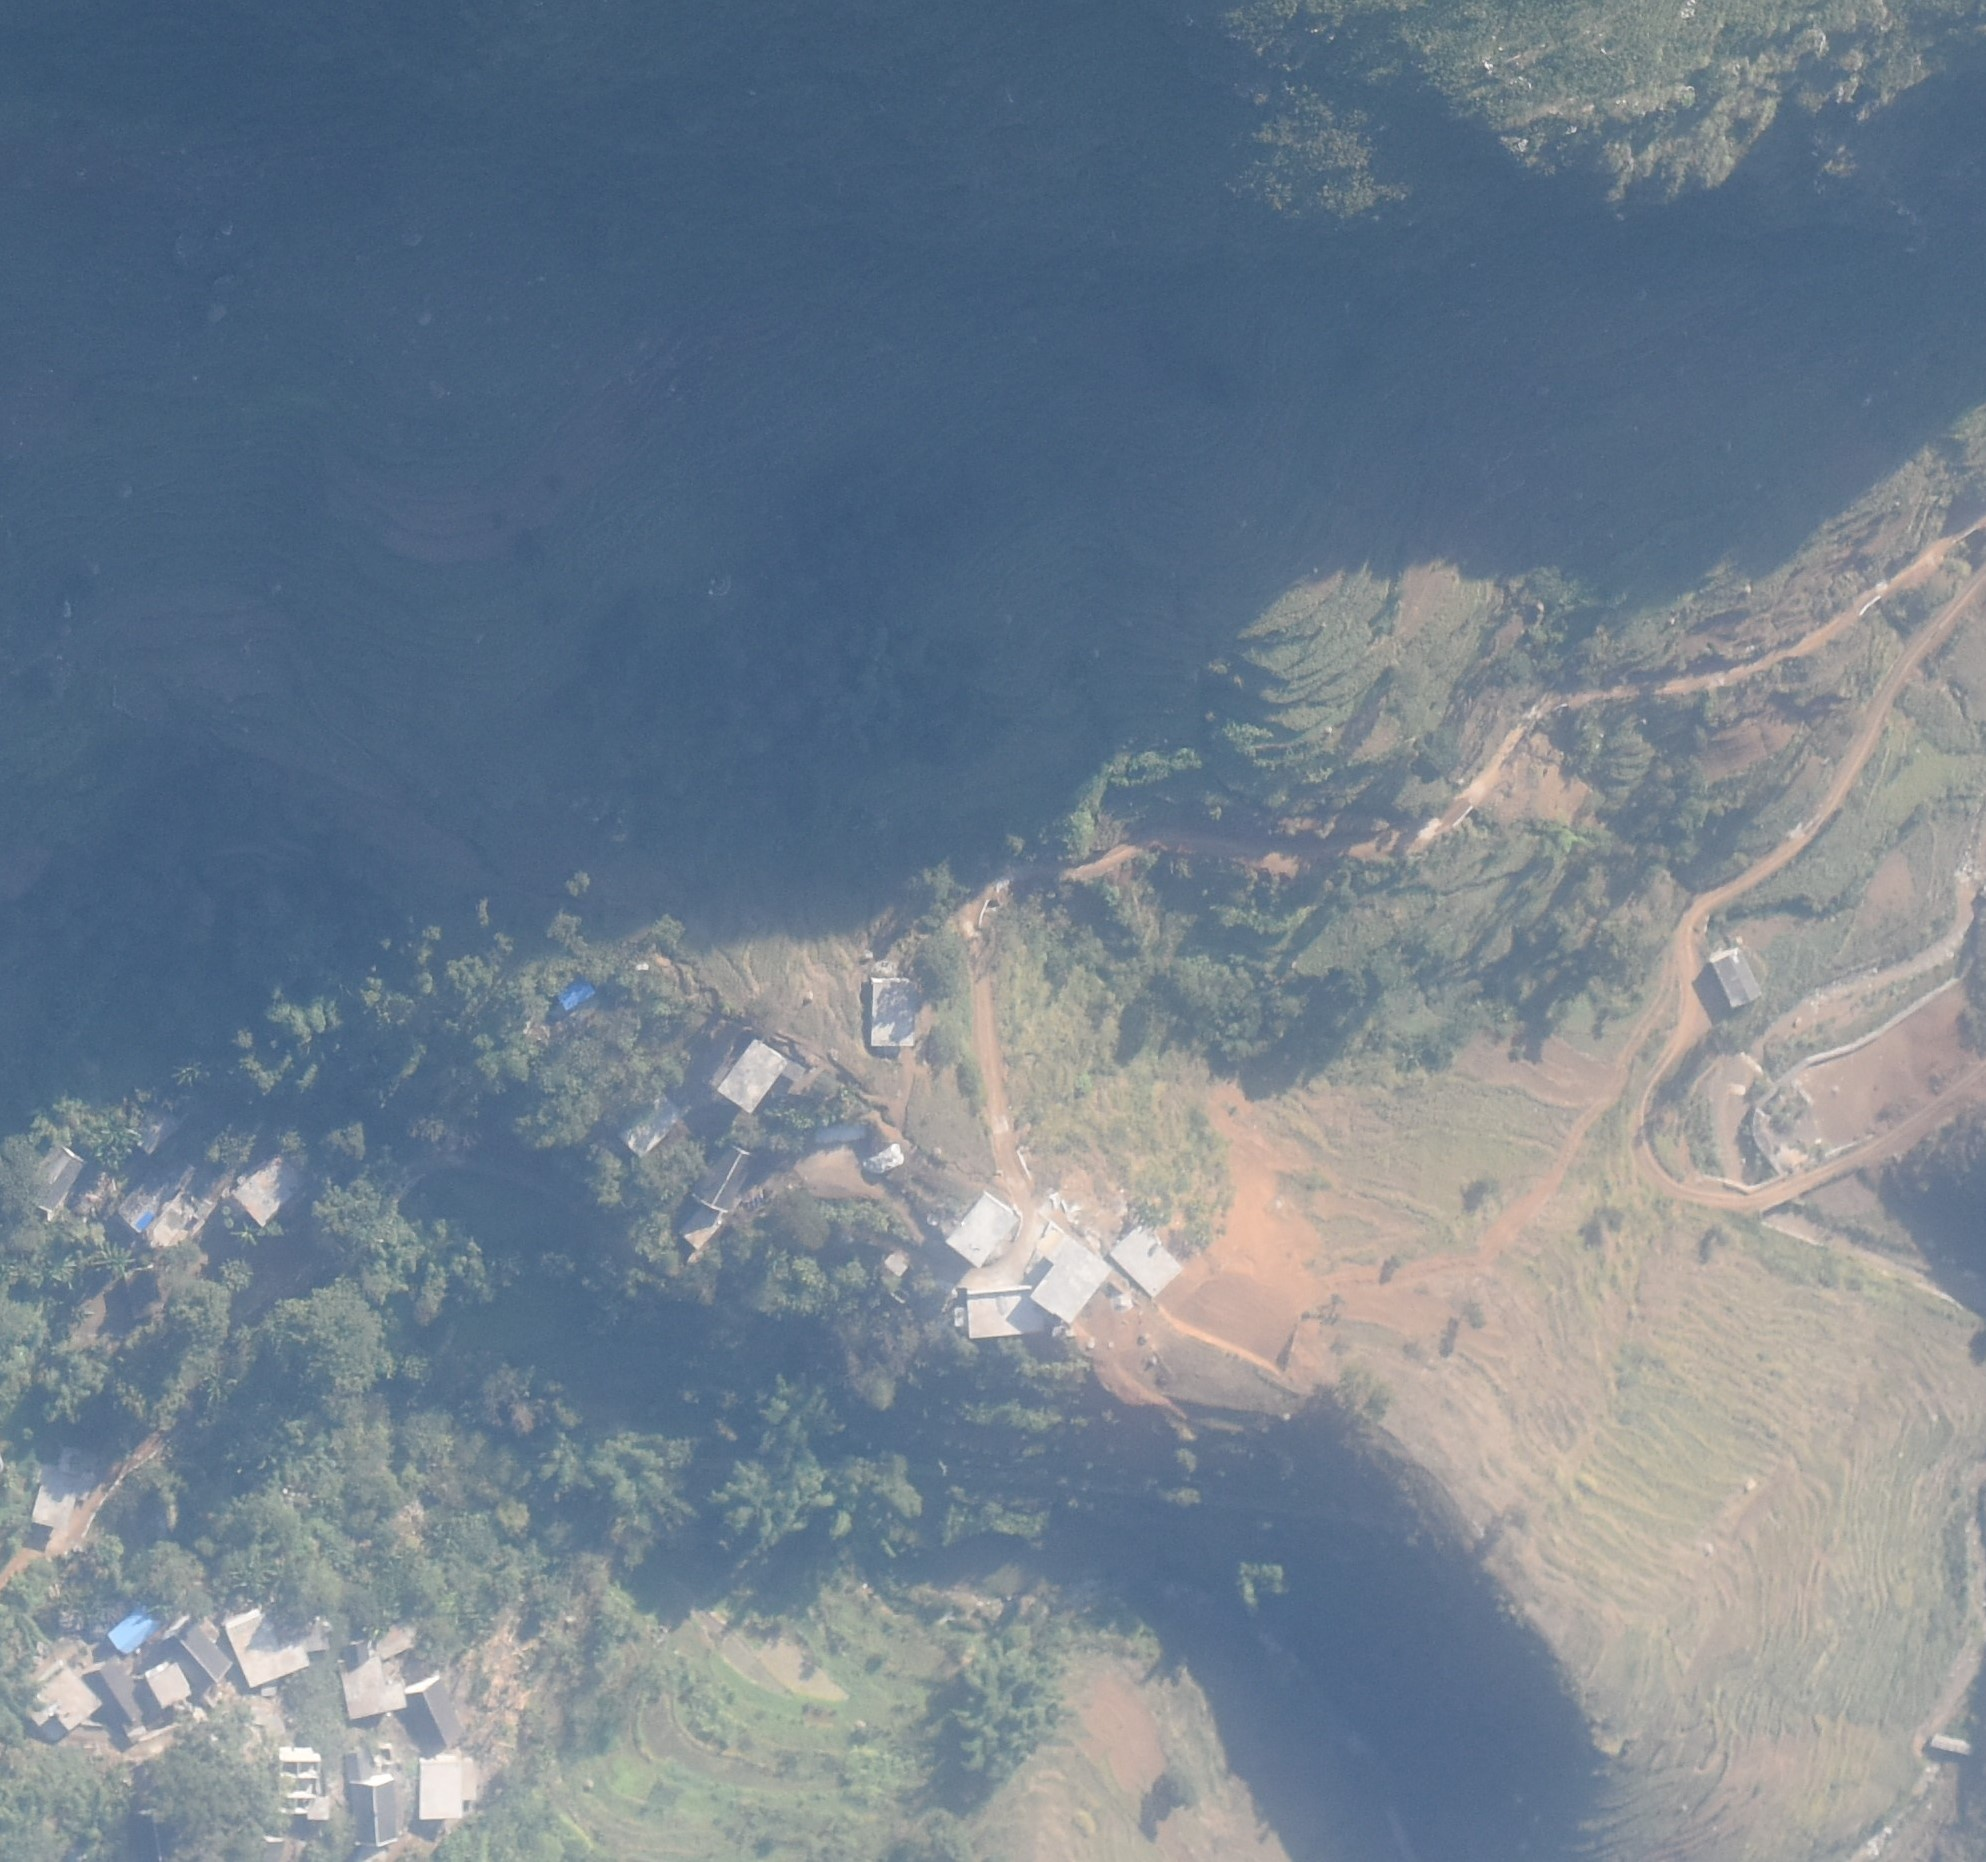building: (1032, 1223, 1109, 1325), (222, 1610, 310, 1685), (23, 1664, 101, 1741), (945, 1192, 1018, 1272), (33, 1444, 101, 1528), (1111, 1221, 1181, 1300), (716, 1038, 787, 1111), (231, 1157, 304, 1227), (341, 1643, 408, 1717), (86, 1654, 145, 1732), (166, 1619, 234, 1685), (689, 1144, 754, 1214), (618, 1087, 681, 1157), (964, 1286, 1045, 1339), (418, 1757, 479, 1822), (408, 1678, 462, 1750), (275, 1748, 327, 1818), (31, 1150, 87, 1214), (348, 1776, 401, 1844), (131, 1094, 192, 1151), (1708, 948, 1764, 1006), (871, 978, 915, 1045), (143, 1661, 191, 1704), (812, 1122, 866, 1144), (345, 1748, 369, 1778)
landslide: (1780, 805, 1983, 1032)
prefabricated-house: (108, 1608, 164, 1652), (560, 976, 597, 1011)
